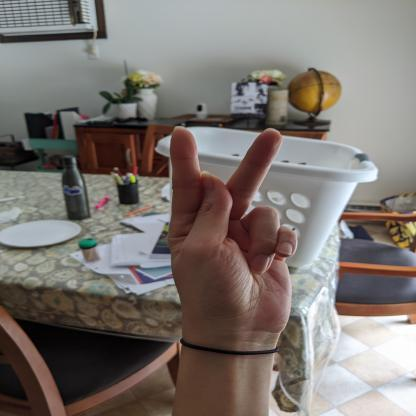K: (162, 122, 302, 344)
